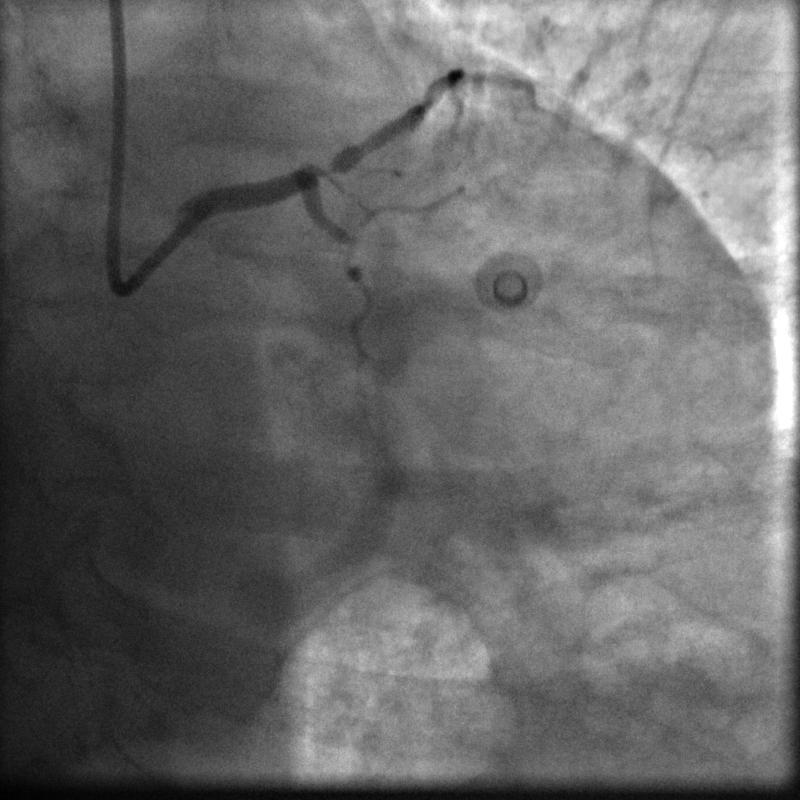Stenosis: (308, 149, 349, 185)
